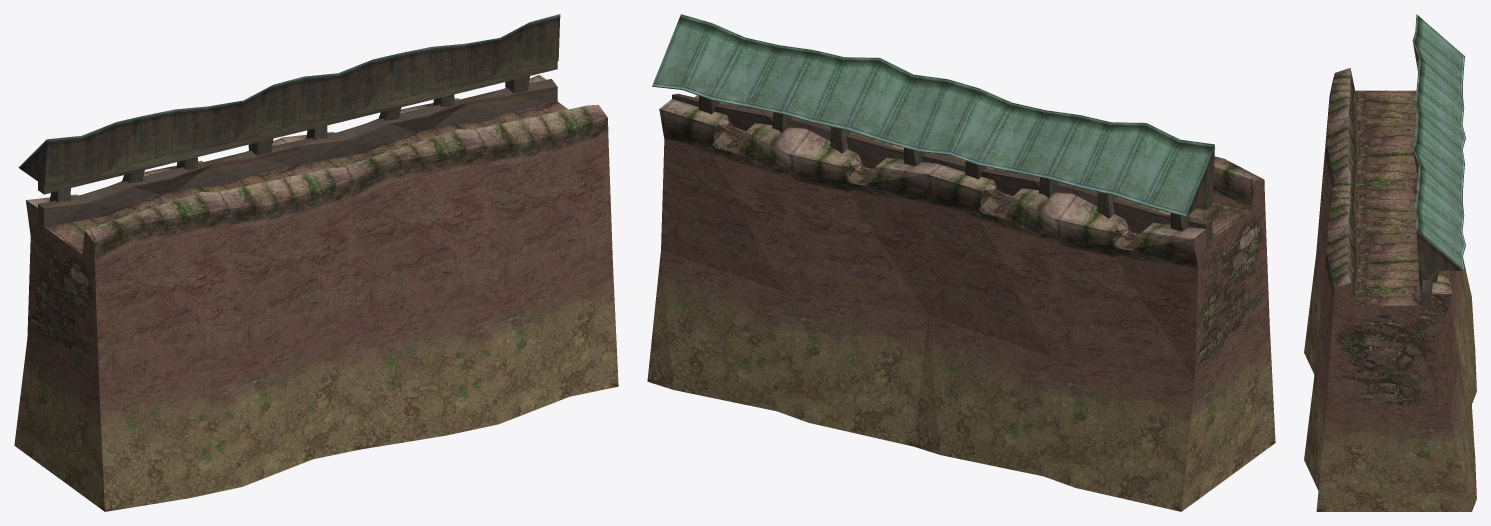
The model's file is C1SMWA20H.obj.
3 renders of one model, left to right at view 1: azimuth 30°, elevation 25°; view 2: azimuth 150°, elevation 25°; view 3: azimuth 270°, elevation 25°, orthographic. The views are drawn at different scales.
Visible parts, largest first — view 1: Node 0; view 2: Node 0; view 3: Node 0.
Boxes of the visible parts, left/top/right/bottom form: Node 0: left=14, top=14, right=618, bottom=511; Node 0: left=647, top=14, right=1275, bottom=511; Node 0: left=1304, top=14, right=1476, bottom=511.
Size of the model in its own units: 20 by 12.54 by 6.8.
Materials: 4 (4 with a texture image).
